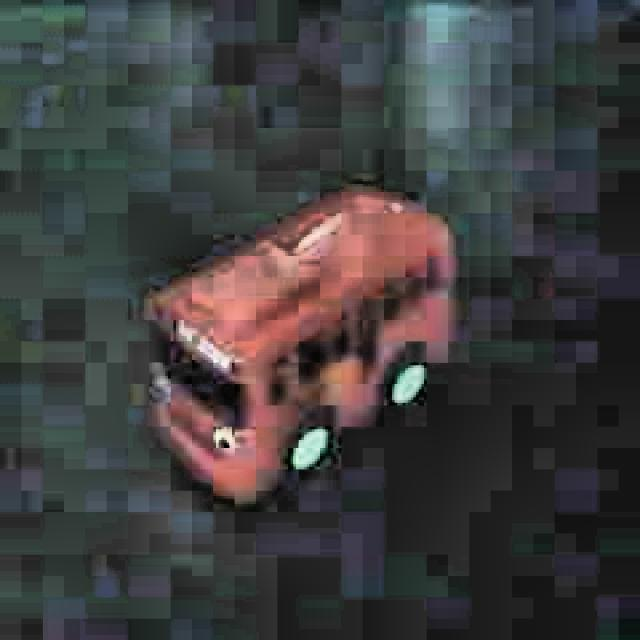bus: (140, 181, 455, 505)
